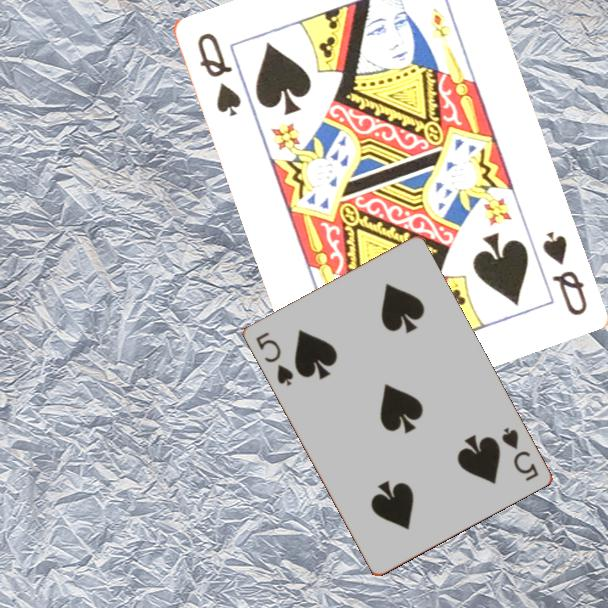s05: (252, 328, 296, 389), (498, 424, 541, 484)
s12: (538, 227, 590, 319), (193, 29, 244, 119)
